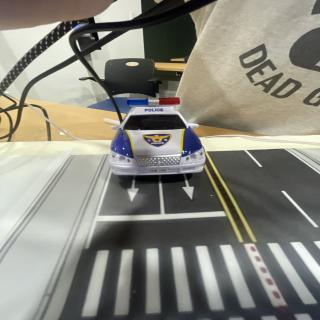Police_car: (109, 98, 205, 175)
